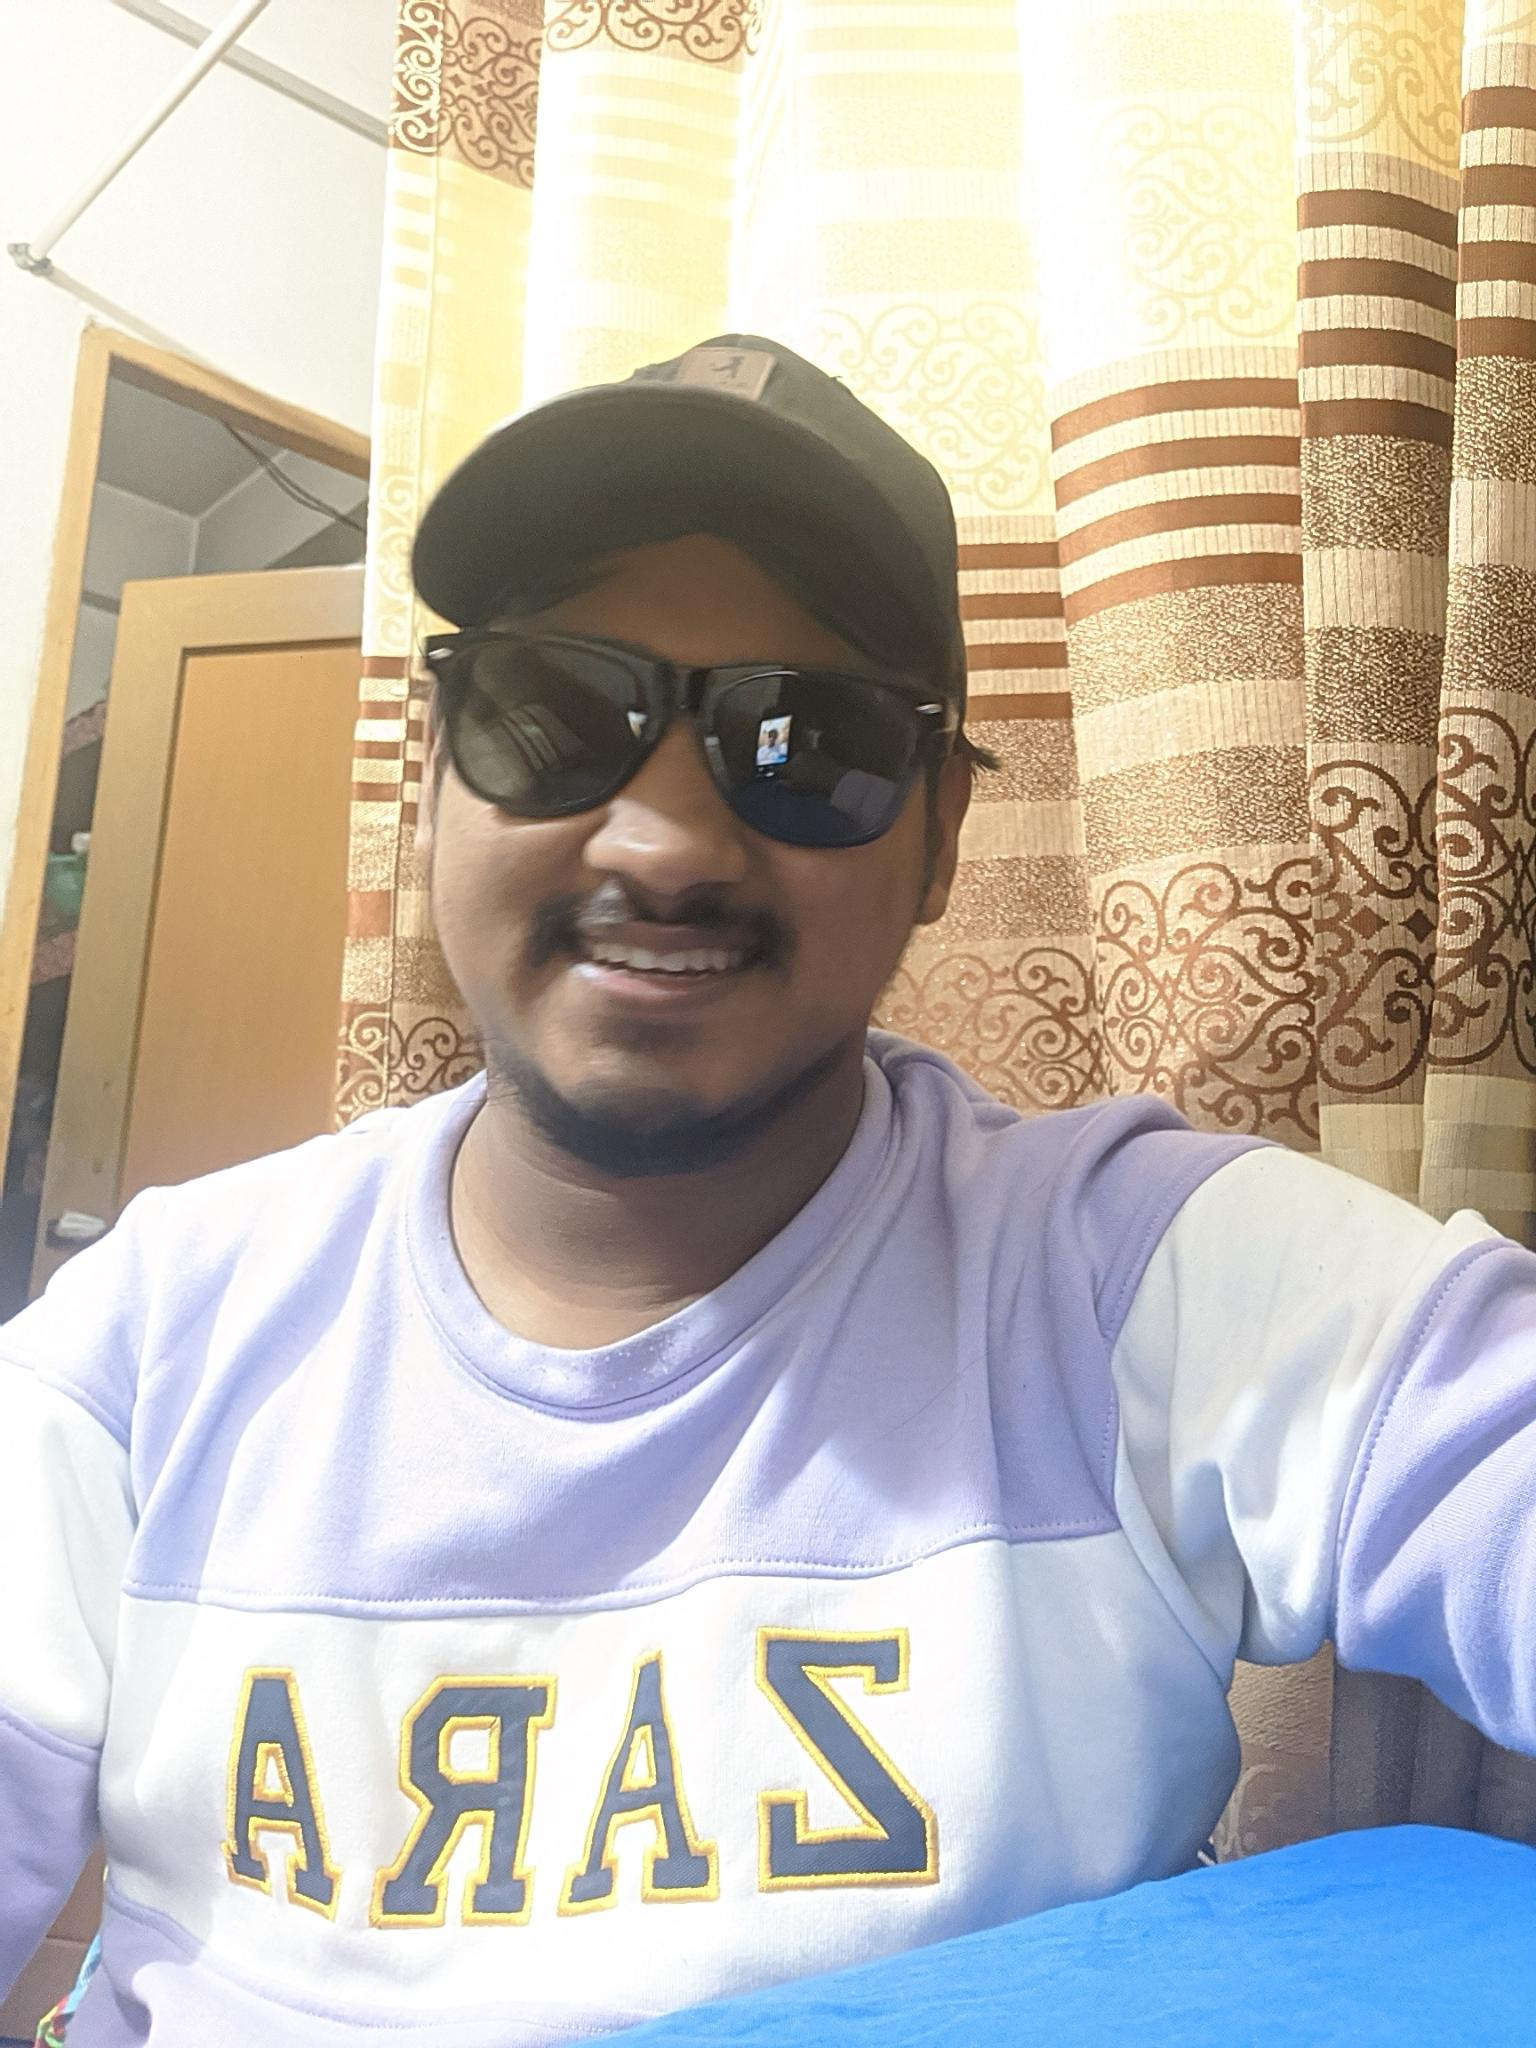Happy: (413, 561, 905, 1134)
